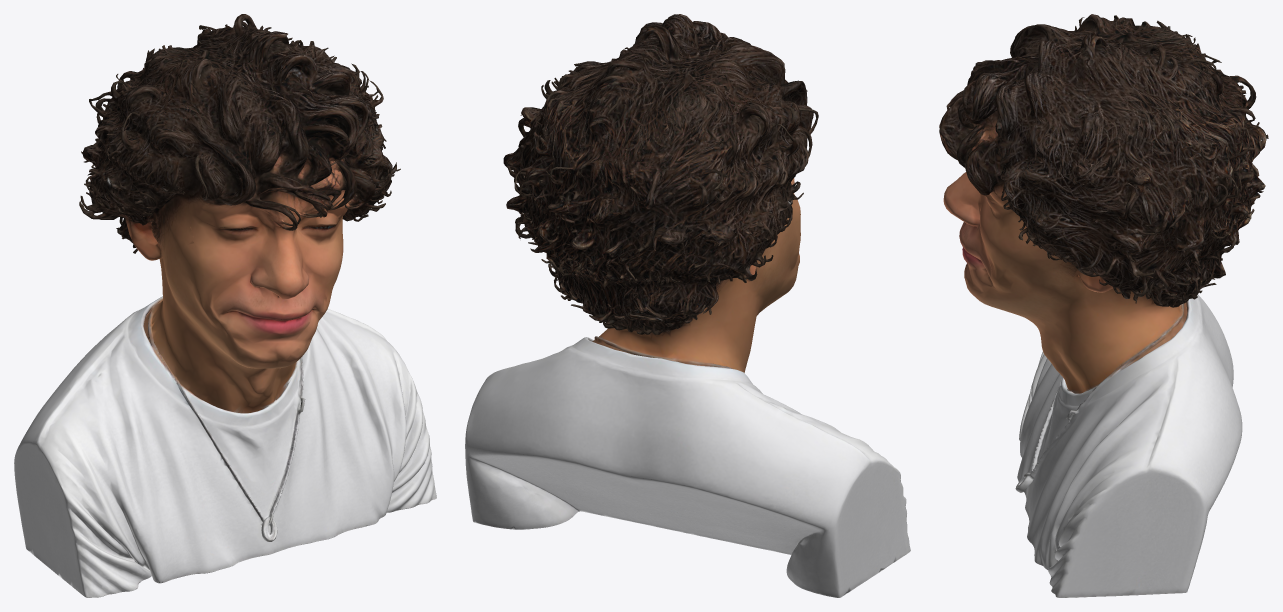
The model's file is Daniel.glb.
3 renders of one model, left to right at view 1: azimuth 30°, elevation 25°; view 2: azimuth 150°, elevation 25°; view 3: azimuth 270°, elevation 25°, orthographic.
Visible parts, largest first — view 1: tripo_node_1a948e49-b28e-4e22-b41f-f918539cec69; view 2: tripo_node_1a948e49-b28e-4e22-b41f-f918539cec69; view 3: tripo_node_1a948e49-b28e-4e22-b41f-f918539cec69.
Boxes of the visible parts, <box> form: tripo_node_1a948e49-b28e-4e22-b41f-f918539cec69: <box>14,14,436,597</box>; tripo_node_1a948e49-b28e-4e22-b41f-f918539cec69: <box>465,14,910,597</box>; tripo_node_1a948e49-b28e-4e22-b41f-f918539cec69: <box>939,14,1268,597</box>.
Size of the model in its own units: 0.7755 by 0.9793 by 0.5941.
Materials: 1 (1 with a texture image).
